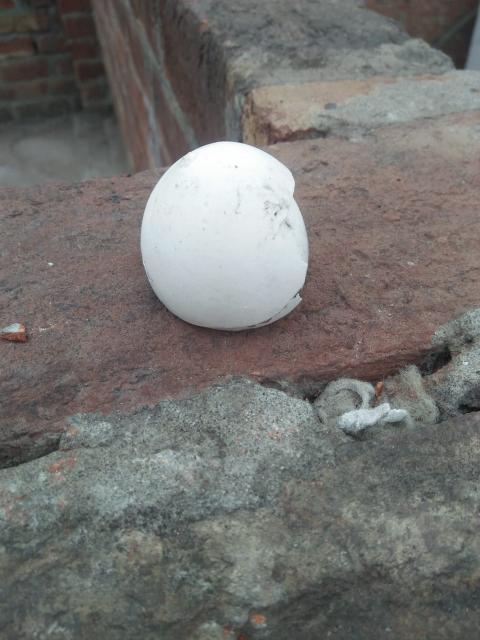Roto: (139, 140, 310, 332)
